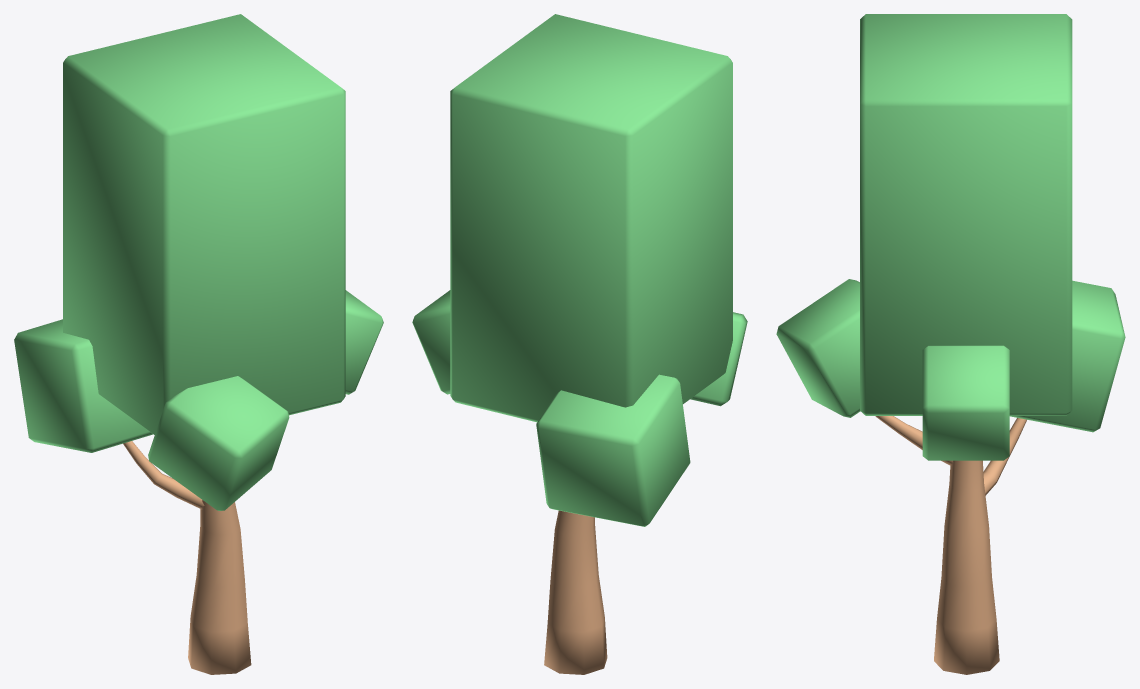
File: Pohon_8.fbx
3 views of the same model, side by side, from view 1: azimuth 30°, elevation 25°; view 2: azimuth 150°, elevation 25°; view 3: azimuth 270°, elevation 25° (orthographic).
Parts seen in each view (by area): view 1: Circle.004; view 2: Circle.004; view 3: Circle.004.
Part boxes in pixels (x1=…): Circle.004: x1=14, y1=14, x2=383, y2=674; Circle.004: x1=412, y1=14, x2=747, y2=674; Circle.004: x1=776, y1=14, x2=1125, y2=674.
Size of the model in its own units: 558 by 1132 by 600.
